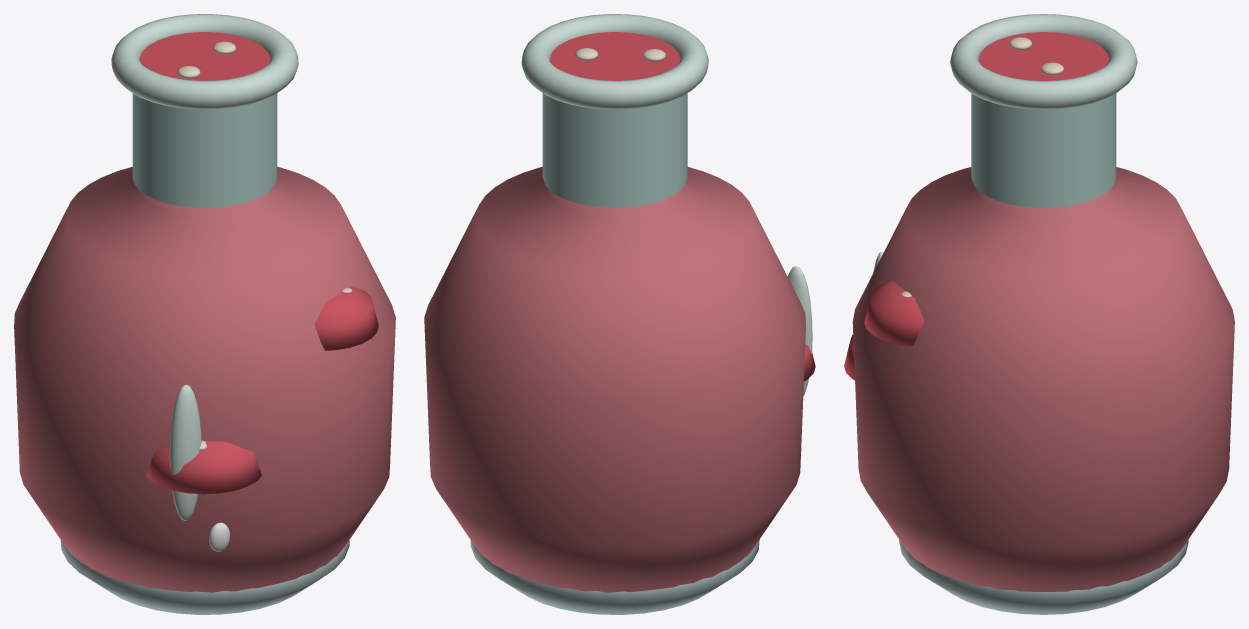
The model's file is shroombrew.glb.
3 views of the same model, side by side, from view 1: azimuth 30°, elevation 25°; view 2: azimuth 150°, elevation 25°; view 3: azimuth 270°, elevation 25° (orthographic).
Visible parts, largest first — view 1: _cap-infusion_infusion, _bottle_cyl, _spotted-caps_cap_spot; view 2: _cap-infusion_infusion, _bottle_cyl, _spotted-caps_cap_spot; view 3: _cap-infusion_infusion, _bottle_cyl, _spotted-caps_cap_spot.
Part boxes in pixels (x1,y1,x2,y2): _cap-infusion_infusion: (14, 167, 395, 592); _bottle_cyl: (60, 14, 349, 614); _spotted-caps_cap_spot: (146, 41, 378, 494); _cap-infusion_infusion: (424, 167, 805, 592); _bottle_cyl: (470, 14, 812, 614); _spotted-caps_cap_spot: (575, 48, 815, 381); _cap-infusion_infusion: (852, 167, 1234, 591); _bottle_cyl: (873, 14, 1188, 614); _spotted-caps_cap_spot: (844, 37, 1063, 380).
Size of the model in its own units: 0.66 by 0.99 by 0.6749.
